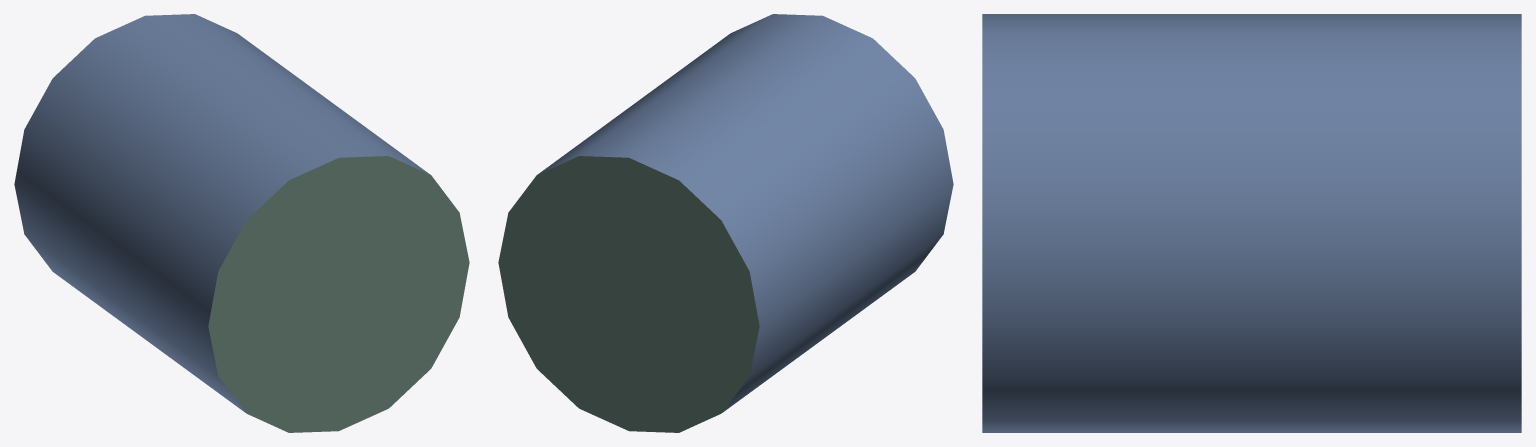
File: icub_l_ankle_1.dae
3 views of the same model, side by side, from view 1: azimuth 30°, elevation 25°; view 2: azimuth 150°, elevation 25°; view 3: azimuth 270°, elevation 25° (orthographic). The views are drawn at different scales.
Parts seen in each view (by area): view 1: l_ankle_1_mesh; view 2: l_ankle_1_mesh; view 3: l_ankle_1_mesh.
Boxes of the visible parts, x1,y1,x2,y2 form: l_ankle_1_mesh: (14, 14, 469, 432); l_ankle_1_mesh: (498, 14, 953, 432); l_ankle_1_mesh: (982, 14, 1521, 432).
Size of the model in its own units: 0.049 by 0.049 by 0.063.
